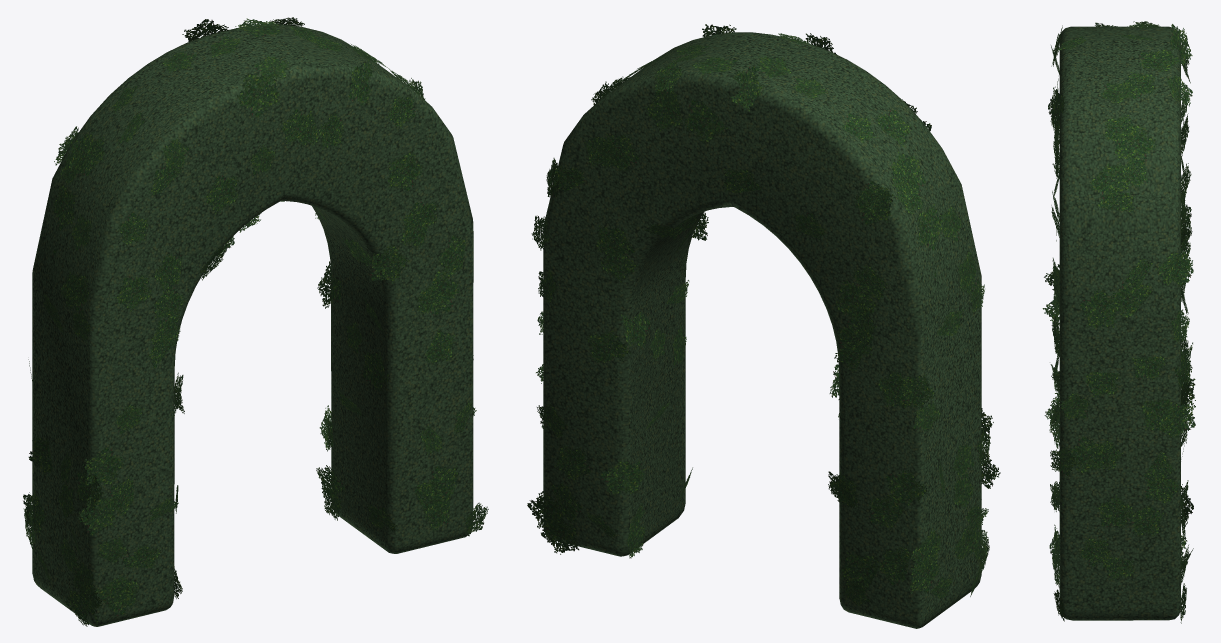
The model's file is HedgeArchway.fbx.
3 views of the same model, side by side, from view 1: azimuth 30°, elevation 25°; view 2: azimuth 150°, elevation 25°; view 3: azimuth 270°, elevation 25° (orthographic). The views are drawn at different scales.
Parts seen in each view (by area): view 1: HedgeArchway_Main, HedgeArchway_Leaves; view 2: HedgeArchway_Main, HedgeArchway_Leaves; view 3: HedgeArchway_Main, HedgeArchway_Leaves.
Boxes of the visible parts, left/top/right/bottom form: HedgeArchway_Main: left=32, top=24, right=473, bottom=626; HedgeArchway_Leaves: left=23, top=17, right=488, bottom=626; HedgeArchway_Main: left=543, top=32, right=981, bottom=628; HedgeArchway_Leaves: left=527, top=24, right=1000, bottom=605; HedgeArchway_Main: left=1059, top=26, right=1180, bottom=620; HedgeArchway_Leaves: left=1042, top=21, right=1195, bottom=623.
Size of the model in its own units: 891 by 1080 by 324.
